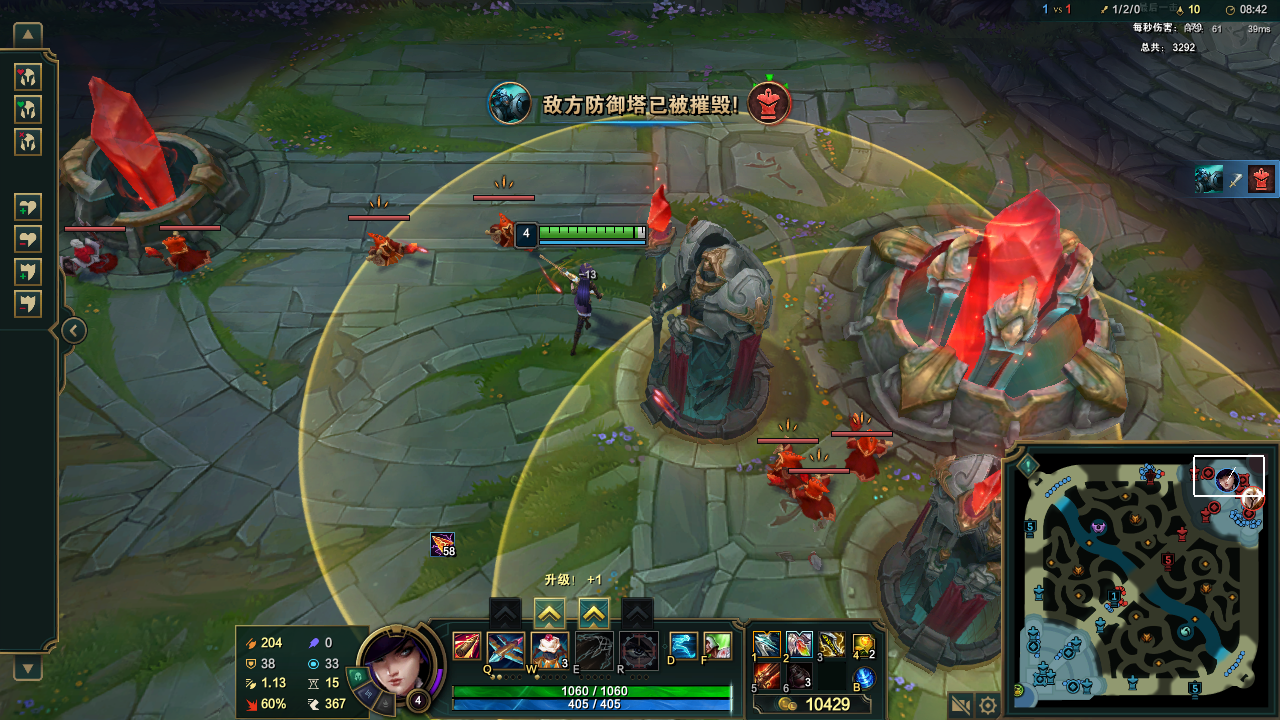DFDSJ: (856, 189, 1133, 422)
DFFYT: (633, 212, 788, 448), (890, 471, 1008, 654)
